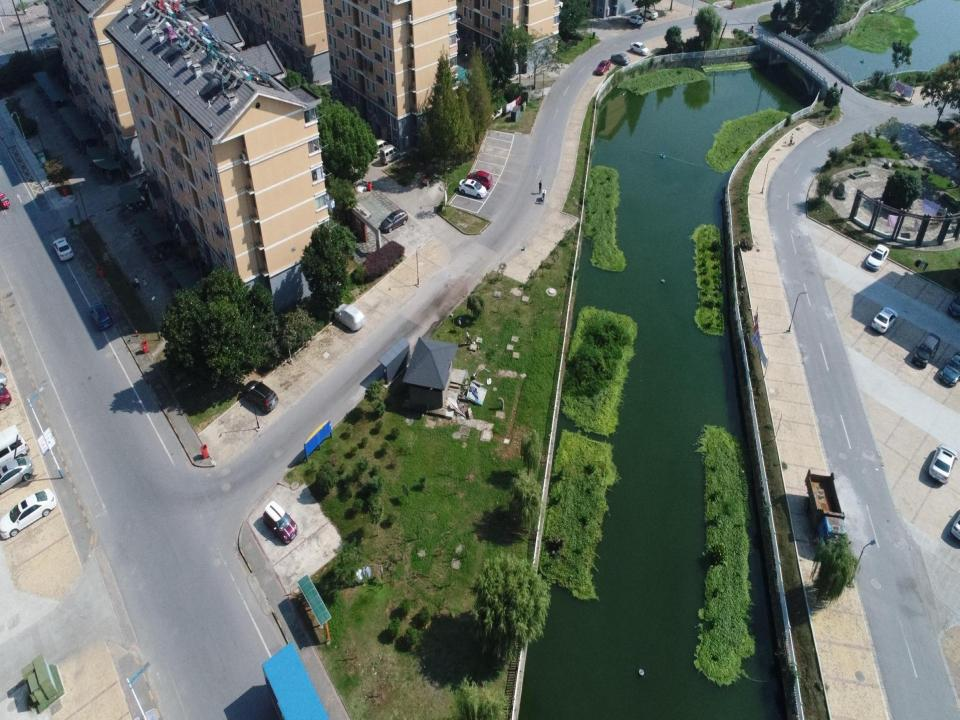bus: (262, 640, 331, 720)
car: (0, 486, 59, 540), (263, 500, 298, 544), (0, 455, 34, 492), (928, 444, 958, 485), (241, 380, 278, 413), (913, 332, 941, 369), (334, 303, 366, 332), (871, 306, 899, 335), (865, 242, 890, 272), (380, 208, 408, 233), (940, 351, 959, 387), (90, 302, 112, 332), (458, 178, 487, 199), (466, 170, 493, 190), (52, 237, 74, 261), (370, 139, 390, 159), (948, 292, 959, 320), (630, 42, 650, 56), (595, 60, 611, 76), (610, 53, 630, 65), (626, 15, 644, 28), (639, 8, 658, 20)
truck: (804, 469, 847, 552)
van: (0, 424, 28, 464), (380, 144, 401, 166)
